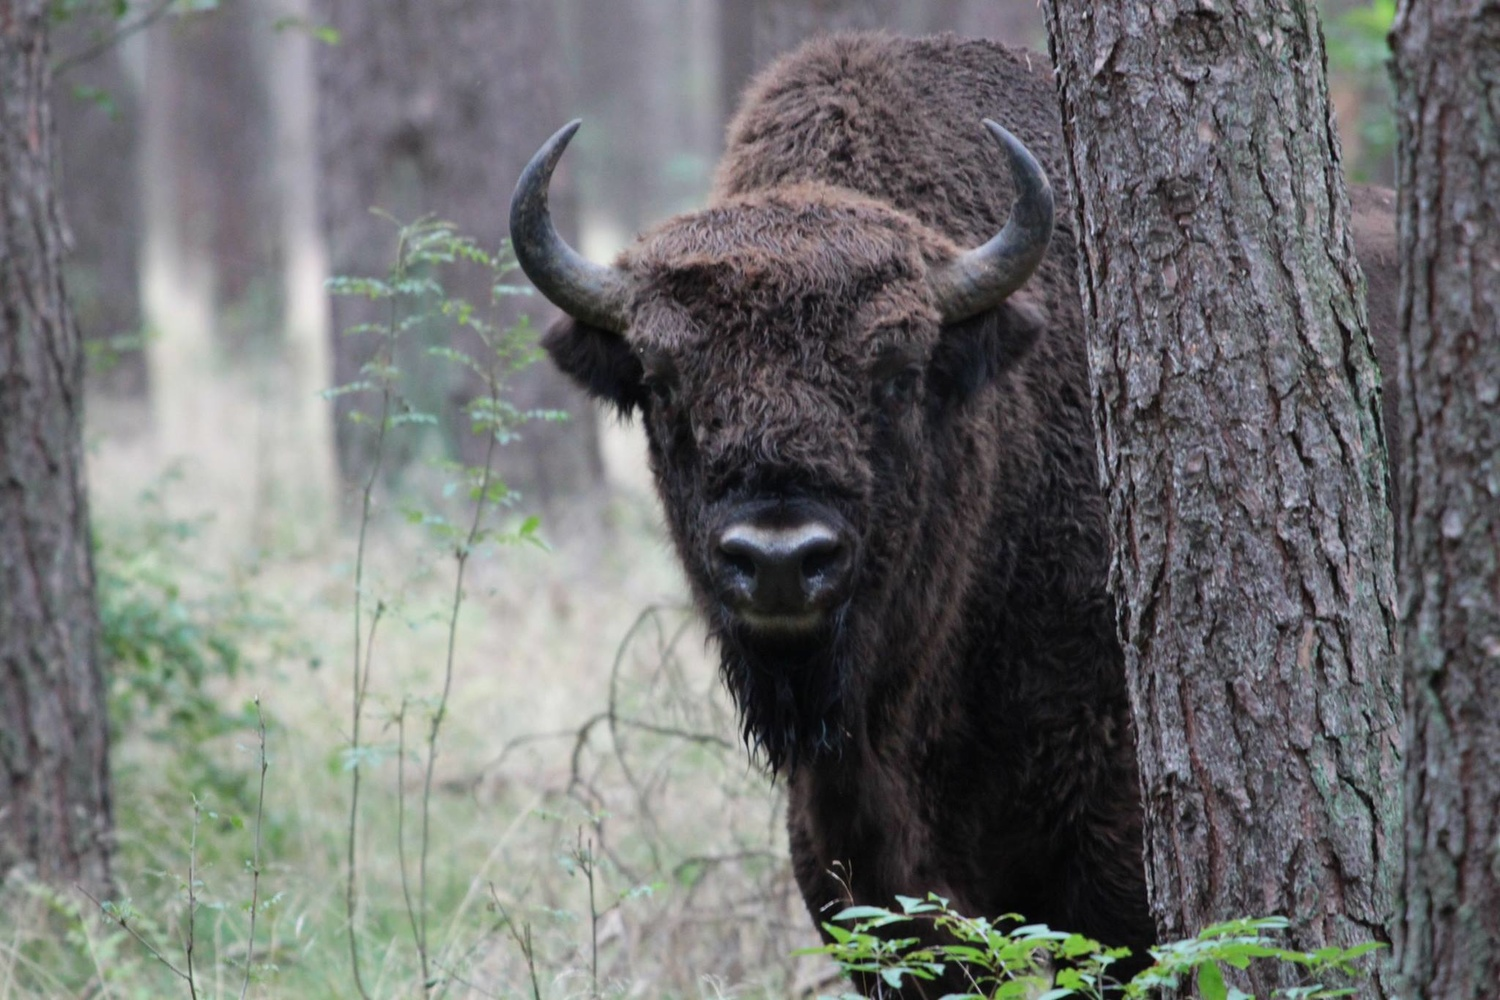zubr: (480, 4, 1187, 1000)
